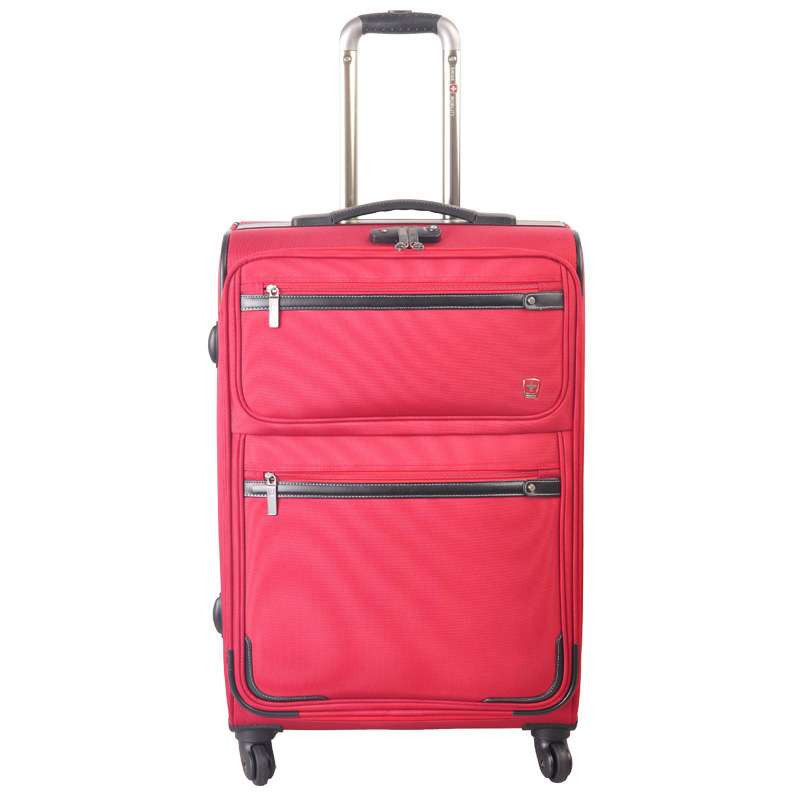suitcase: (207, 5, 590, 789)
